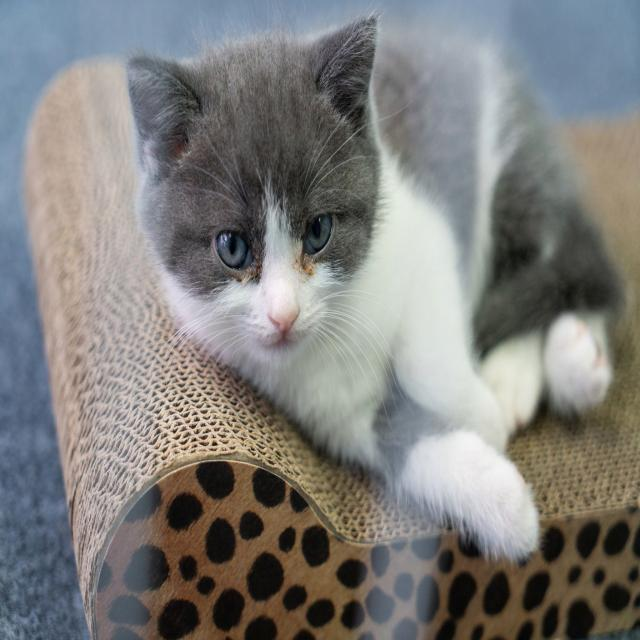cat: (127, 15, 622, 562)
